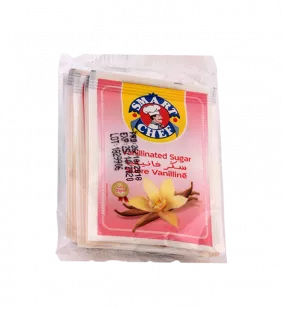SMART CHEF: (44, 44, 237, 269)
